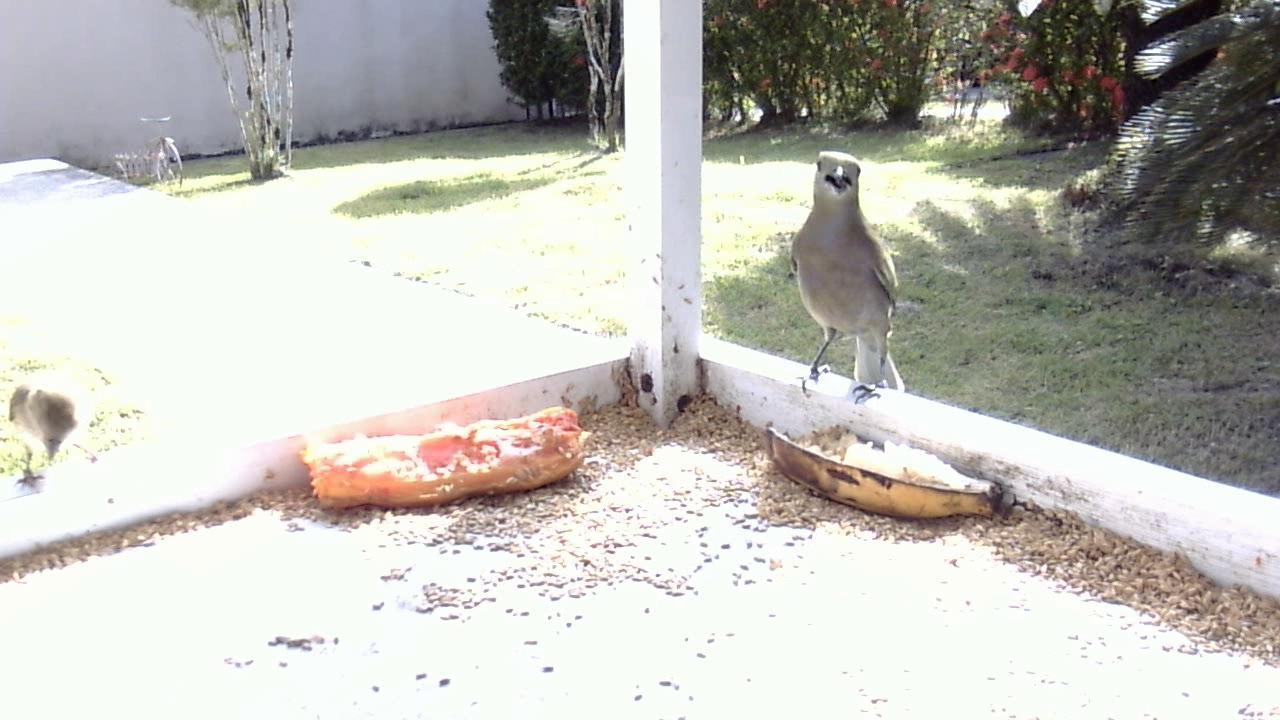canario_do_amazonas: (4, 368, 88, 502)
sanhaco_do_coqueiro: (785, 144, 911, 406)
